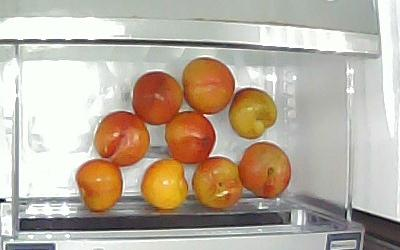prune: (92, 110, 150, 167), (237, 142, 292, 201), (182, 57, 235, 116), (163, 110, 218, 162), (131, 71, 183, 125), (190, 157, 242, 209), (74, 158, 124, 212), (229, 86, 278, 141), (141, 157, 189, 211)
